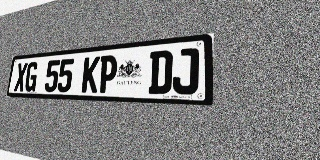5: (57, 58, 74, 92), (44, 60, 60, 92)
D: (148, 50, 173, 94)
G: (24, 61, 39, 92)
J: (172, 47, 199, 95)
K: (81, 56, 100, 93)
P: (98, 55, 118, 93)
X: (14, 62, 28, 91)
